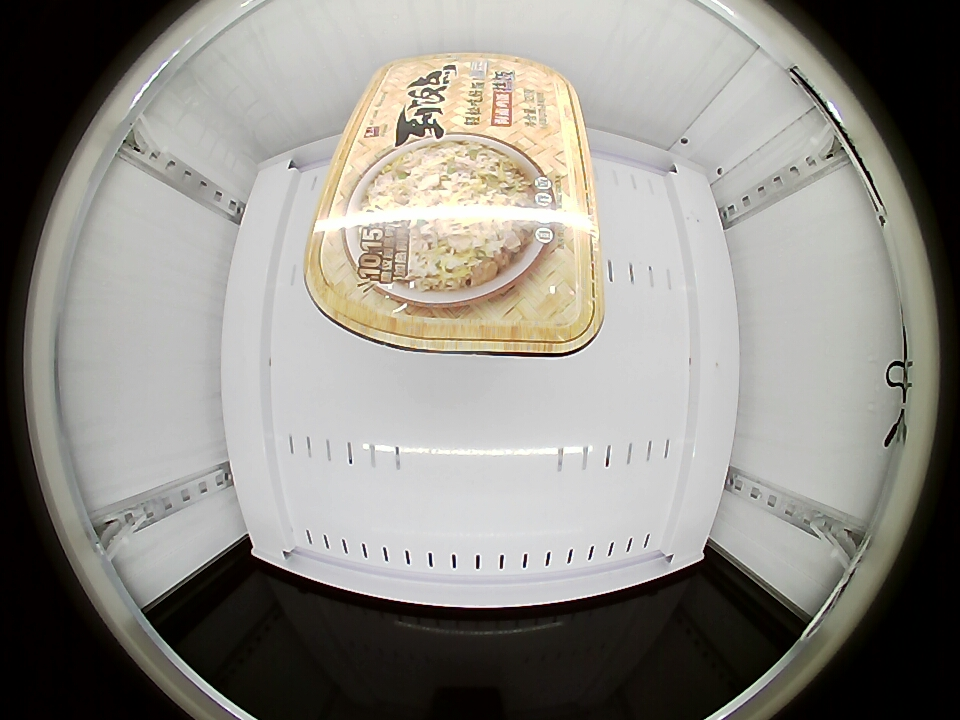daofandian1: (306, 53, 603, 358)
